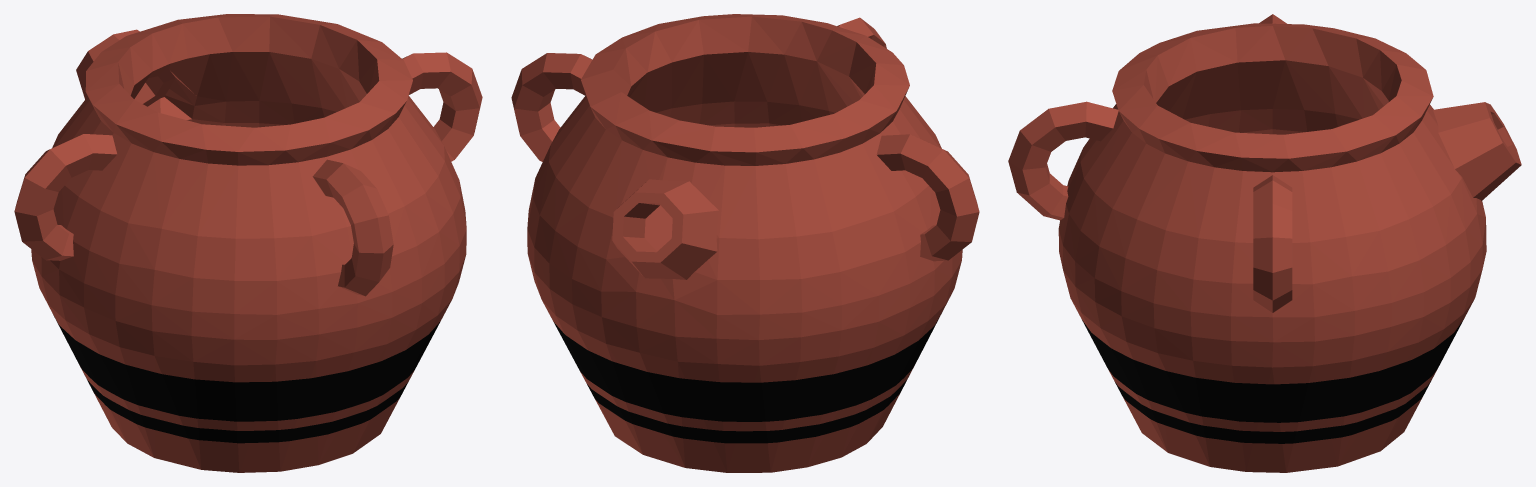
File: Pottery 10_3.fbx
3 views of the same model, side by side, from view 1: azimuth 30°, elevation 25°; view 2: azimuth 150°, elevation 25°; view 3: azimuth 270°, elevation 25° (orthographic). The views are drawn at different scales.
Parts seen in each view (by area): view 1: Pottery 10_3; view 2: Pottery 10_3; view 3: Pottery 10_3.
Part boxes in pixels (<box>): Pottery 10_3: <box>14,14,482,472</box>; Pottery 10_3: <box>511,14,979,472</box>; Pottery 10_3: <box>1008,14,1521,472</box>.
Size of the model in its own units: 91.31 by 63.77 by 88.61.
